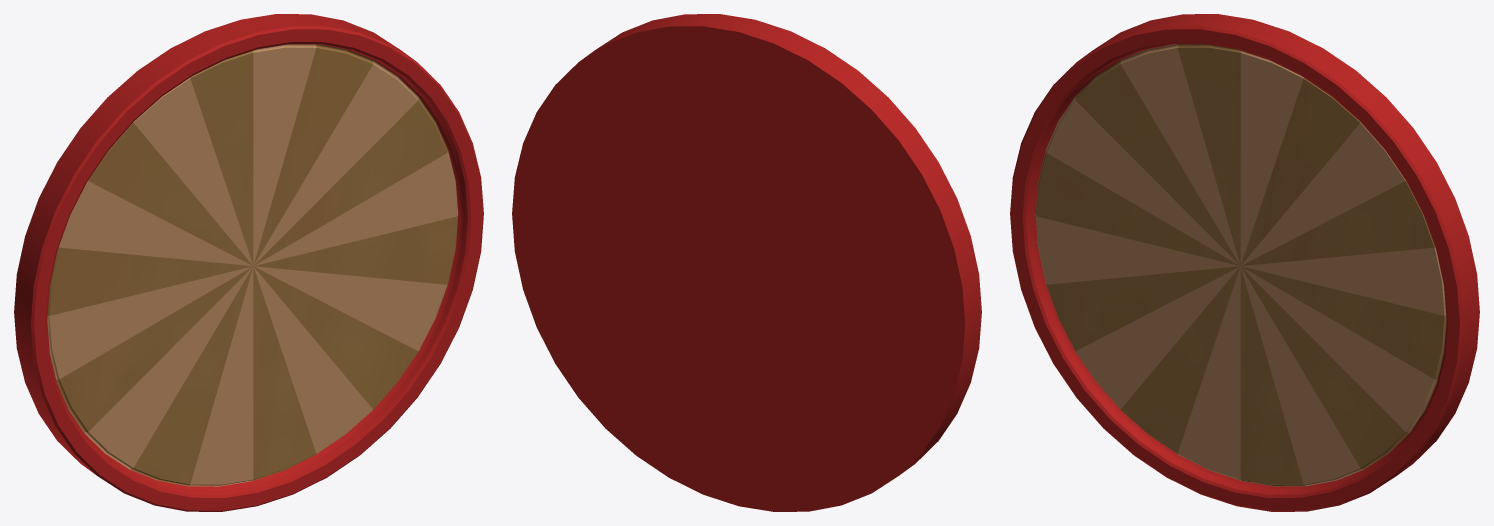
File: obstacle_windmill.fbx
3 renders of one model, left to right at view 1: azimuth 30°, elevation 25°; view 2: azimuth 150°, elevation 25°; view 3: azimuth 330°, elevation 25°, orthographic.
Parts seen in each view (by area): view 1: obstacle_windmill; view 2: obstacle_windmill; view 3: obstacle_windmill.
Part boxes in pixels (x1,y1,x2,y2): obstacle_windmill: (14, 14, 483, 511); obstacle_windmill: (512, 14, 981, 511); obstacle_windmill: (1010, 14, 1479, 511).
Bounding box in the file's own units: 2 × 2 × 0.137.
Materials: 1 (1 with a texture image).
